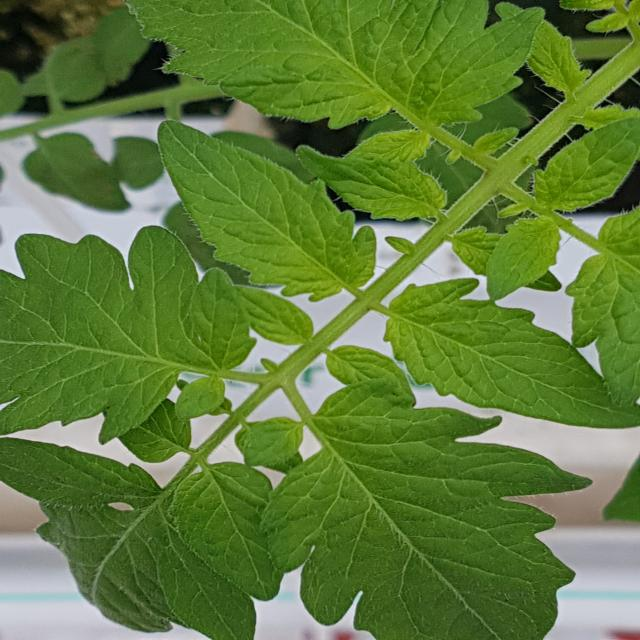Healthy Leaf: (267, 381, 595, 640), (126, 1, 548, 131), (1, 227, 251, 444), (1, 439, 257, 640), (158, 122, 377, 300), (388, 279, 640, 429), (177, 464, 284, 601), (568, 209, 640, 409), (301, 146, 444, 221), (538, 118, 640, 213), (497, 3, 592, 92), (489, 218, 557, 302), (344, 131, 435, 164)
